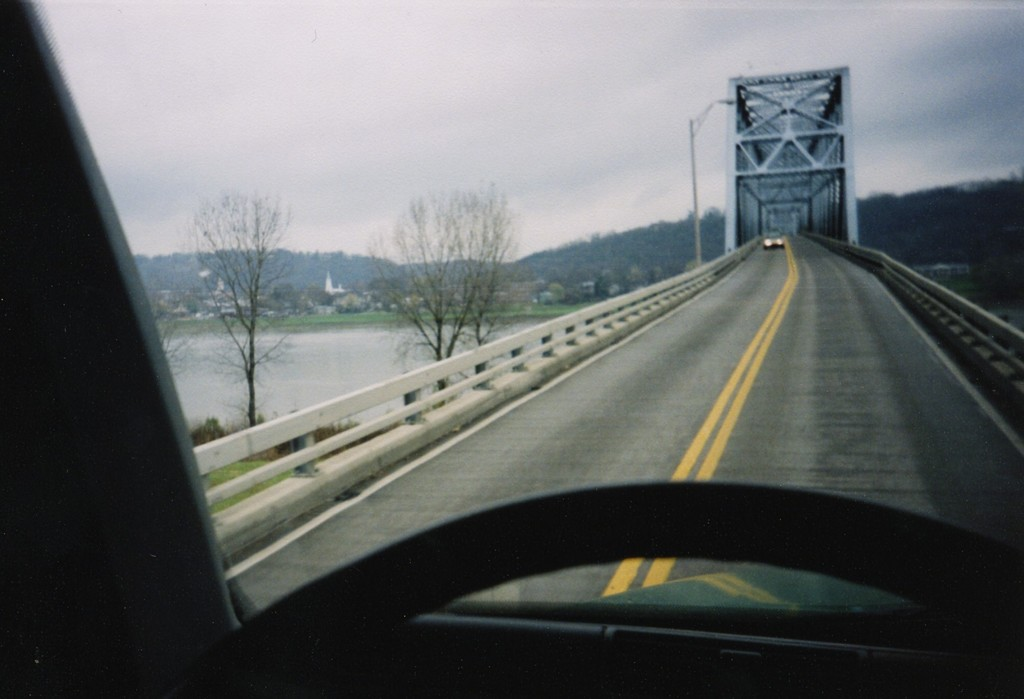Tree: (160, 187, 307, 444), (366, 182, 518, 411), (380, 183, 520, 397), (842, 177, 1023, 303), (487, 210, 736, 277)
